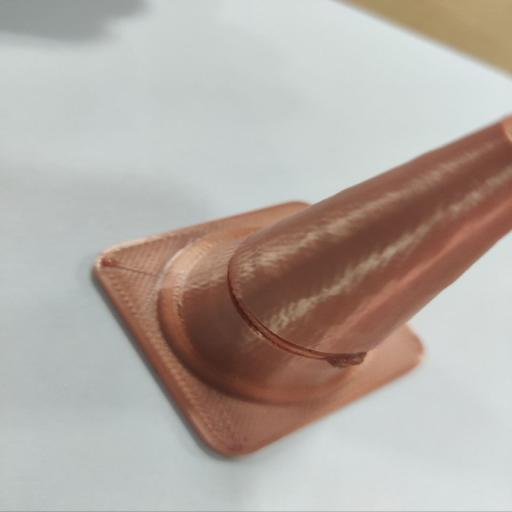cracks: (200, 255, 375, 383)
